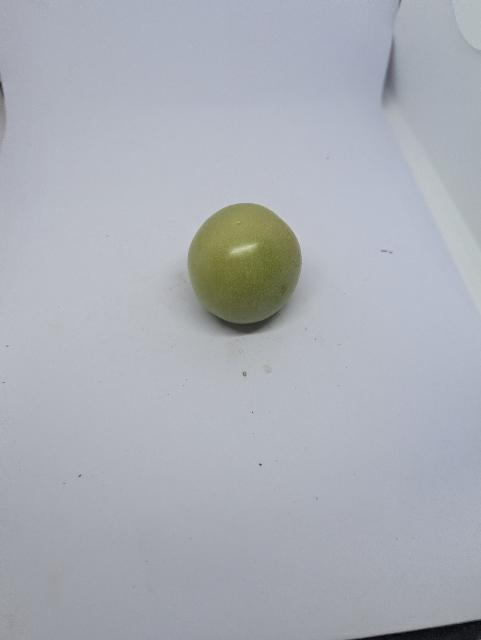green: (186, 201, 306, 327)
